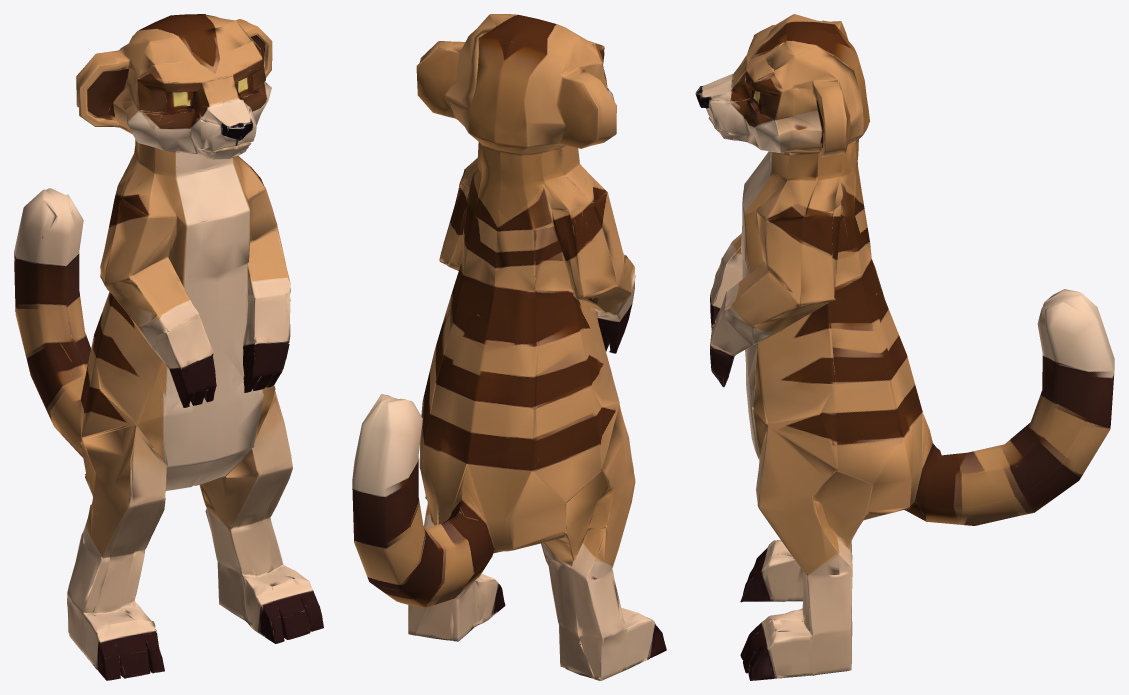
File: creature_meerkat_forge.glb
3 renders of one model, left to right at view 1: azimuth 30°, elevation 25°; view 2: azimuth 150°, elevation 25°; view 3: azimuth 270°, elevation 25°, orthographic. The views are drawn at different scales.
Size of the model in its own units: 0.353 by 0.9512 by 0.6025.
1 material, 1 textured.
